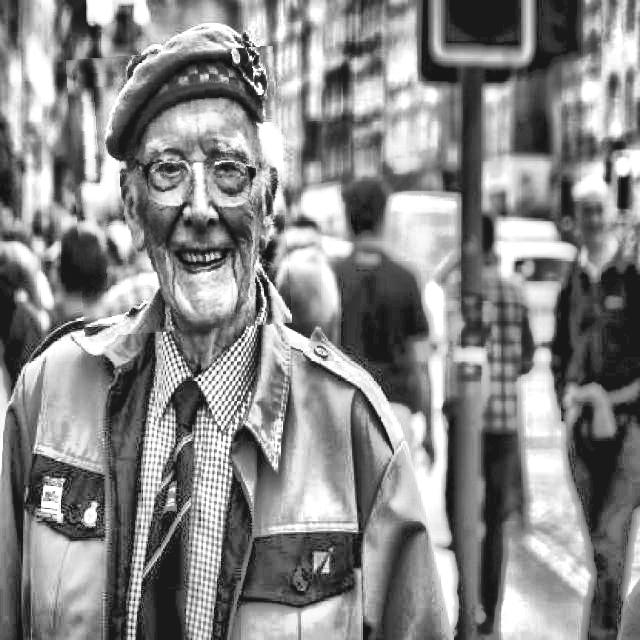happy: (71, 50, 287, 334)
